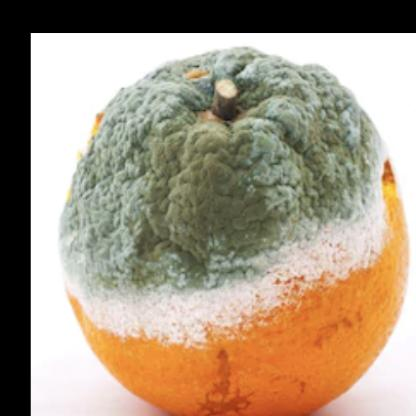rotten: (63, 44, 404, 416)
